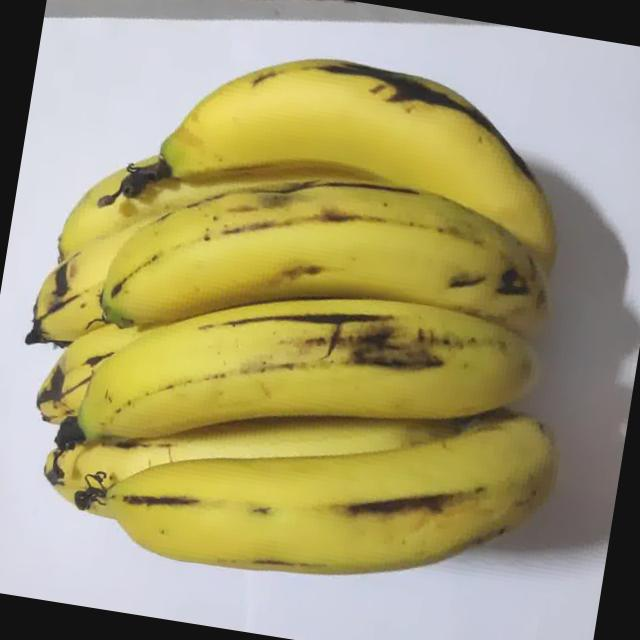banana_pacche: (0, 14, 607, 630)
